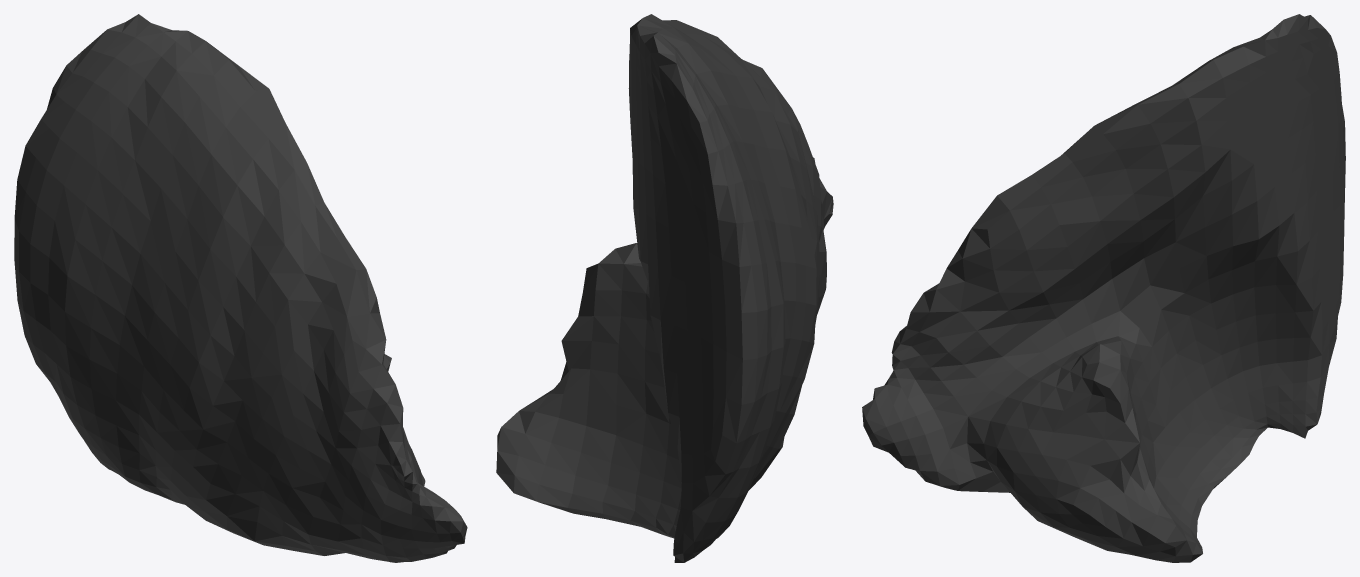
The model's file is Cranial_lobe_R_lung.glb.
The picture shows the model from 3 angles, left to right: view 1: azimuth 30°, elevation 25°; view 2: azimuth 150°, elevation 25°; view 3: azimuth 270°, elevation 25°; orthographic projection. The views are drawn at different scales.
Parts seen in each view (by area): view 1: Cranial_lobe_R_lung; view 2: Cranial_lobe_R_lung; view 3: Cranial_lobe_R_lung.
Boxes of the visible parts, x1,y1,x2,y2 form: Cranial_lobe_R_lung: (14,14,467,562); Cranial_lobe_R_lung: (496,14,833,562); Cranial_lobe_R_lung: (862,14,1345,562).
Size of the model in its own units: 1 by 1.51 by 1.4.
1 material, 1 textured.
